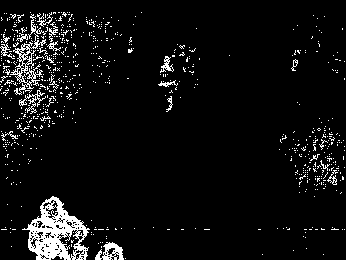person: (159, 54, 178, 113)
